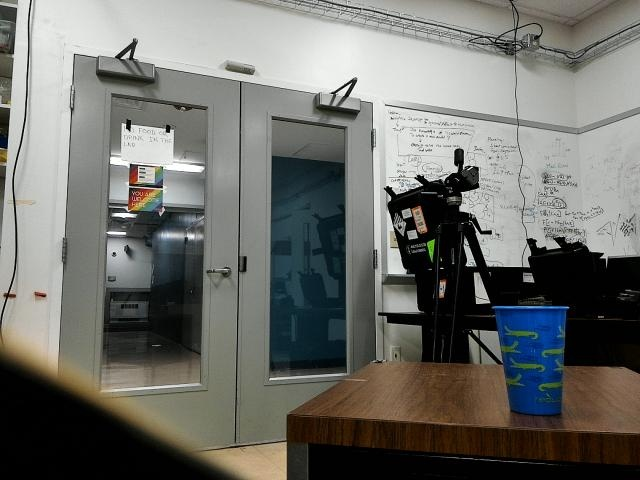water_cup: (488, 301, 584, 422)
